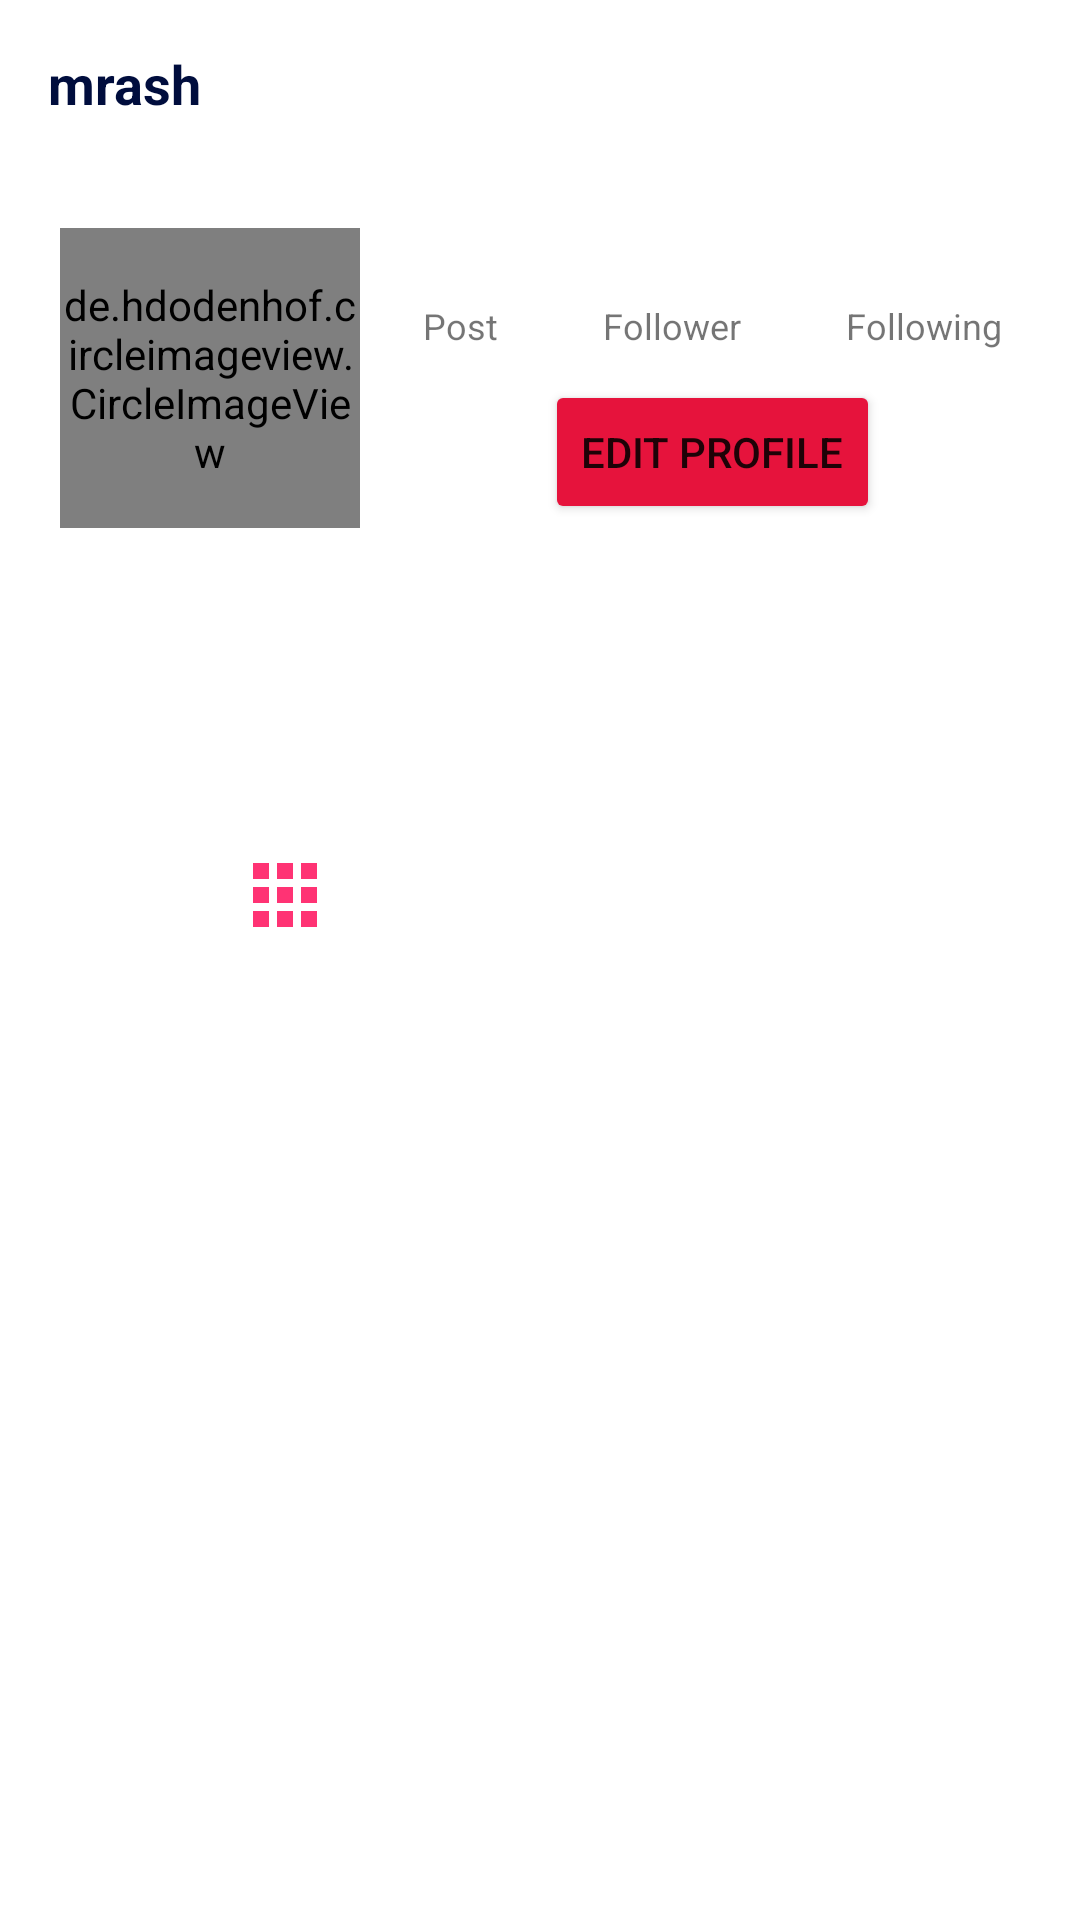

Icon click points for this 1080x1920 phone screenshot, format (x,y):
pictures: (285,895)
